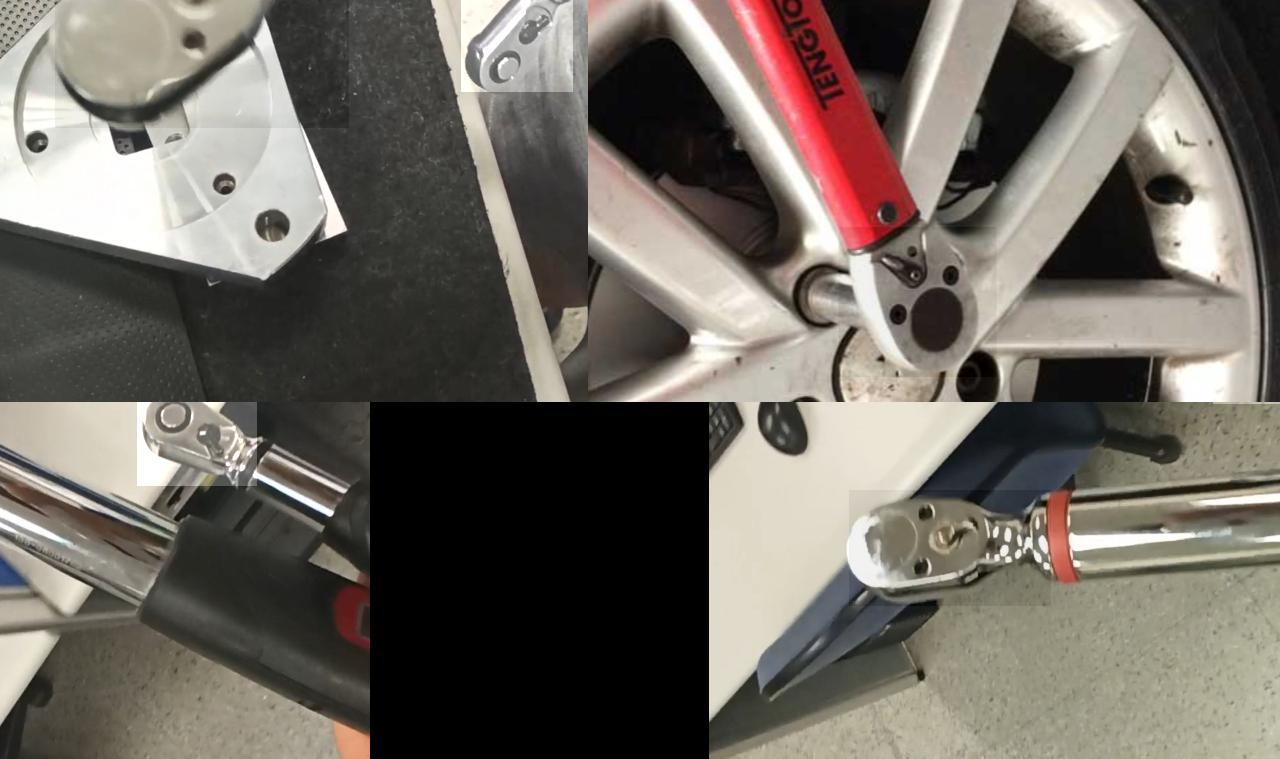Tool: (54, 0, 348, 128), (838, 226, 996, 376), (848, 490, 1050, 606), (460, 0, 572, 92), (136, 402, 256, 486)
